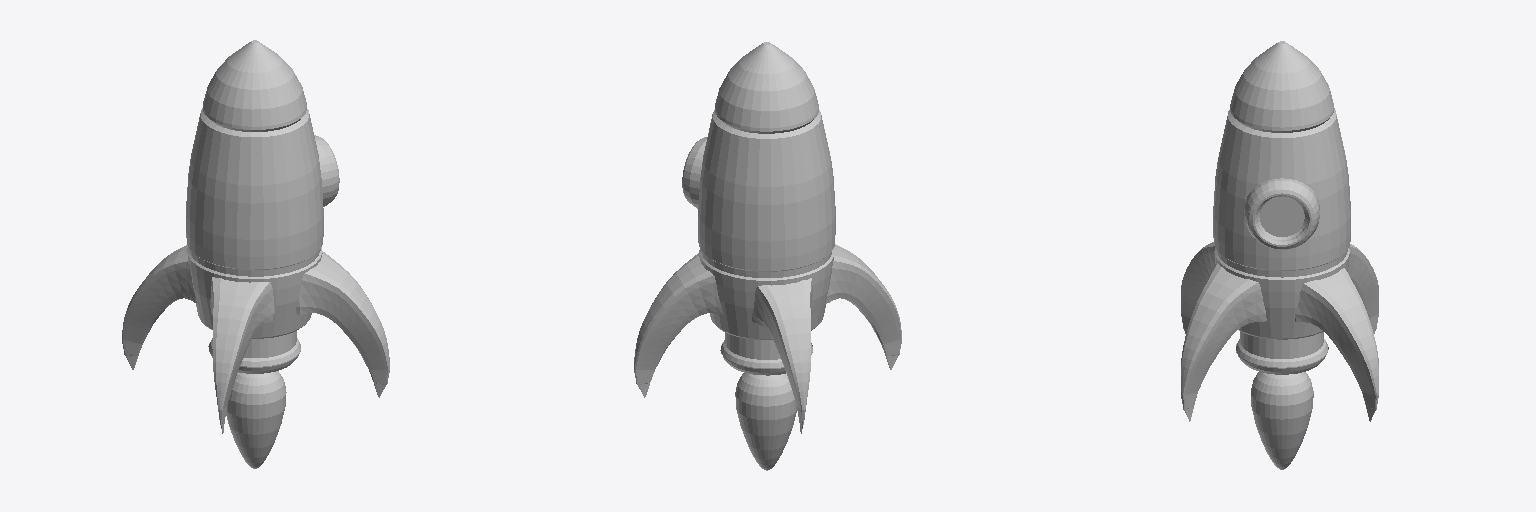
File: Spaceship_1.obj
3 renders of one model, left to right at view 1: azimuth 30°, elevation 25°; view 2: azimuth 150°, elevation 25°; view 3: azimuth 270°, elevation 25°, orthographic.
Visible parts, largest first — view 1: Spaceship2, Spaceship1, Spaceship4; view 2: Spaceship2, Spaceship1, Spaceship4; view 3: Spaceship2, Spaceship1, Spaceship4, Spaceship3.
Part boxes in pixels (x1,y1,x2,y2): Spaceship2: (122, 40, 389, 433); Spaceship1: (186, 108, 323, 338); Spaceship4: (226, 371, 286, 468); Spaceship2: (634, 42, 901, 433); Spaceship1: (698, 110, 835, 339); Spaceship4: (735, 373, 796, 470); Spaceship2: (1181, 41, 1378, 421); Spaceship1: (1213, 109, 1350, 339); Spaceship4: (1251, 372, 1313, 469); Spaceship3: (1260, 196, 1304, 236).
Size of the model in its own units: 0.812 by 1.92 by 0.812.